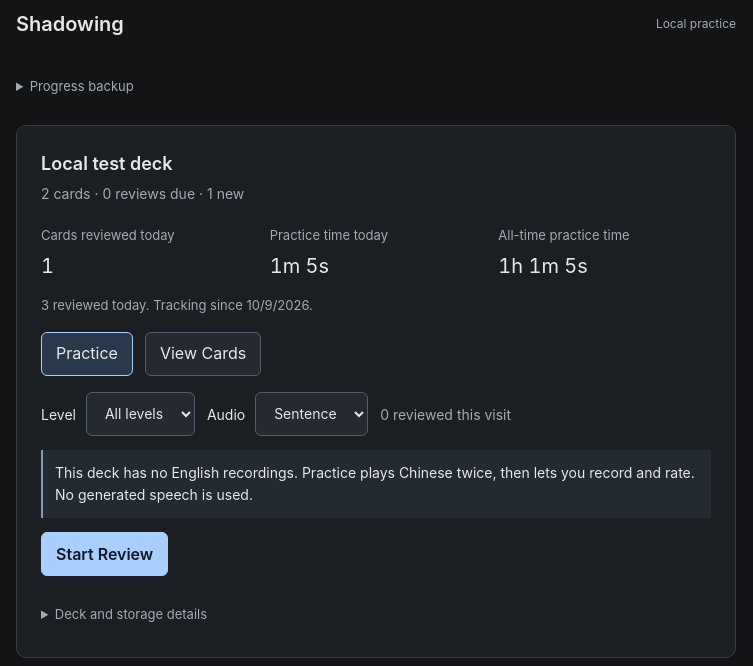
Test case: skipping and cleanup › shows saved daily totals and a reviewed card without starting playback
Expected: the text "1m 5s" is shown, left=270, top=254, right=329, bottom=278
Expected: the text "1h 1m 5s" is shown, left=498, top=254, right=588, bottom=278
Click the button "View Cards": point(203, 354) left=145, top=332, right=261, bottom=376
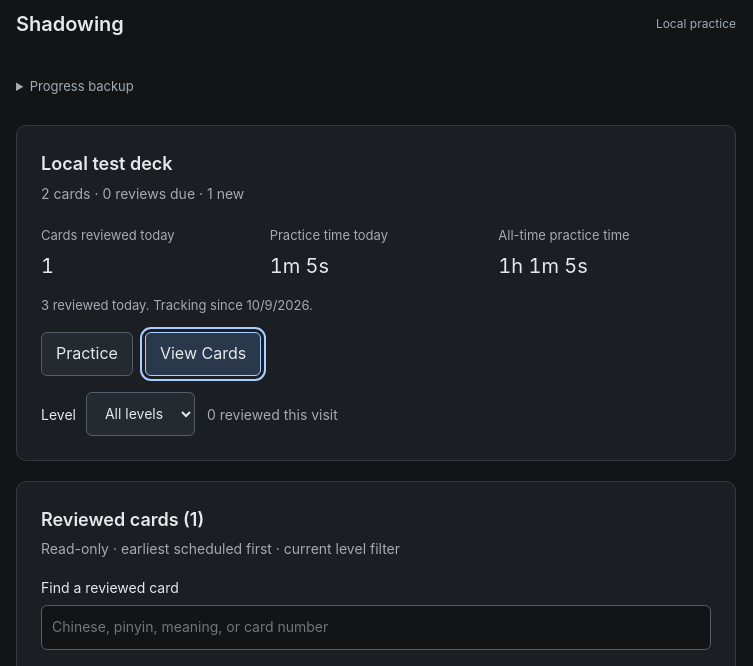
Expected: the heading "Reviewed cards (1)" is shown, left=41, top=509, right=204, bottom=530
